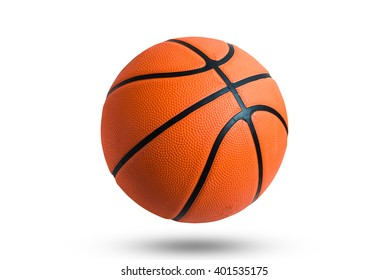ball: (100, 36, 288, 223)
